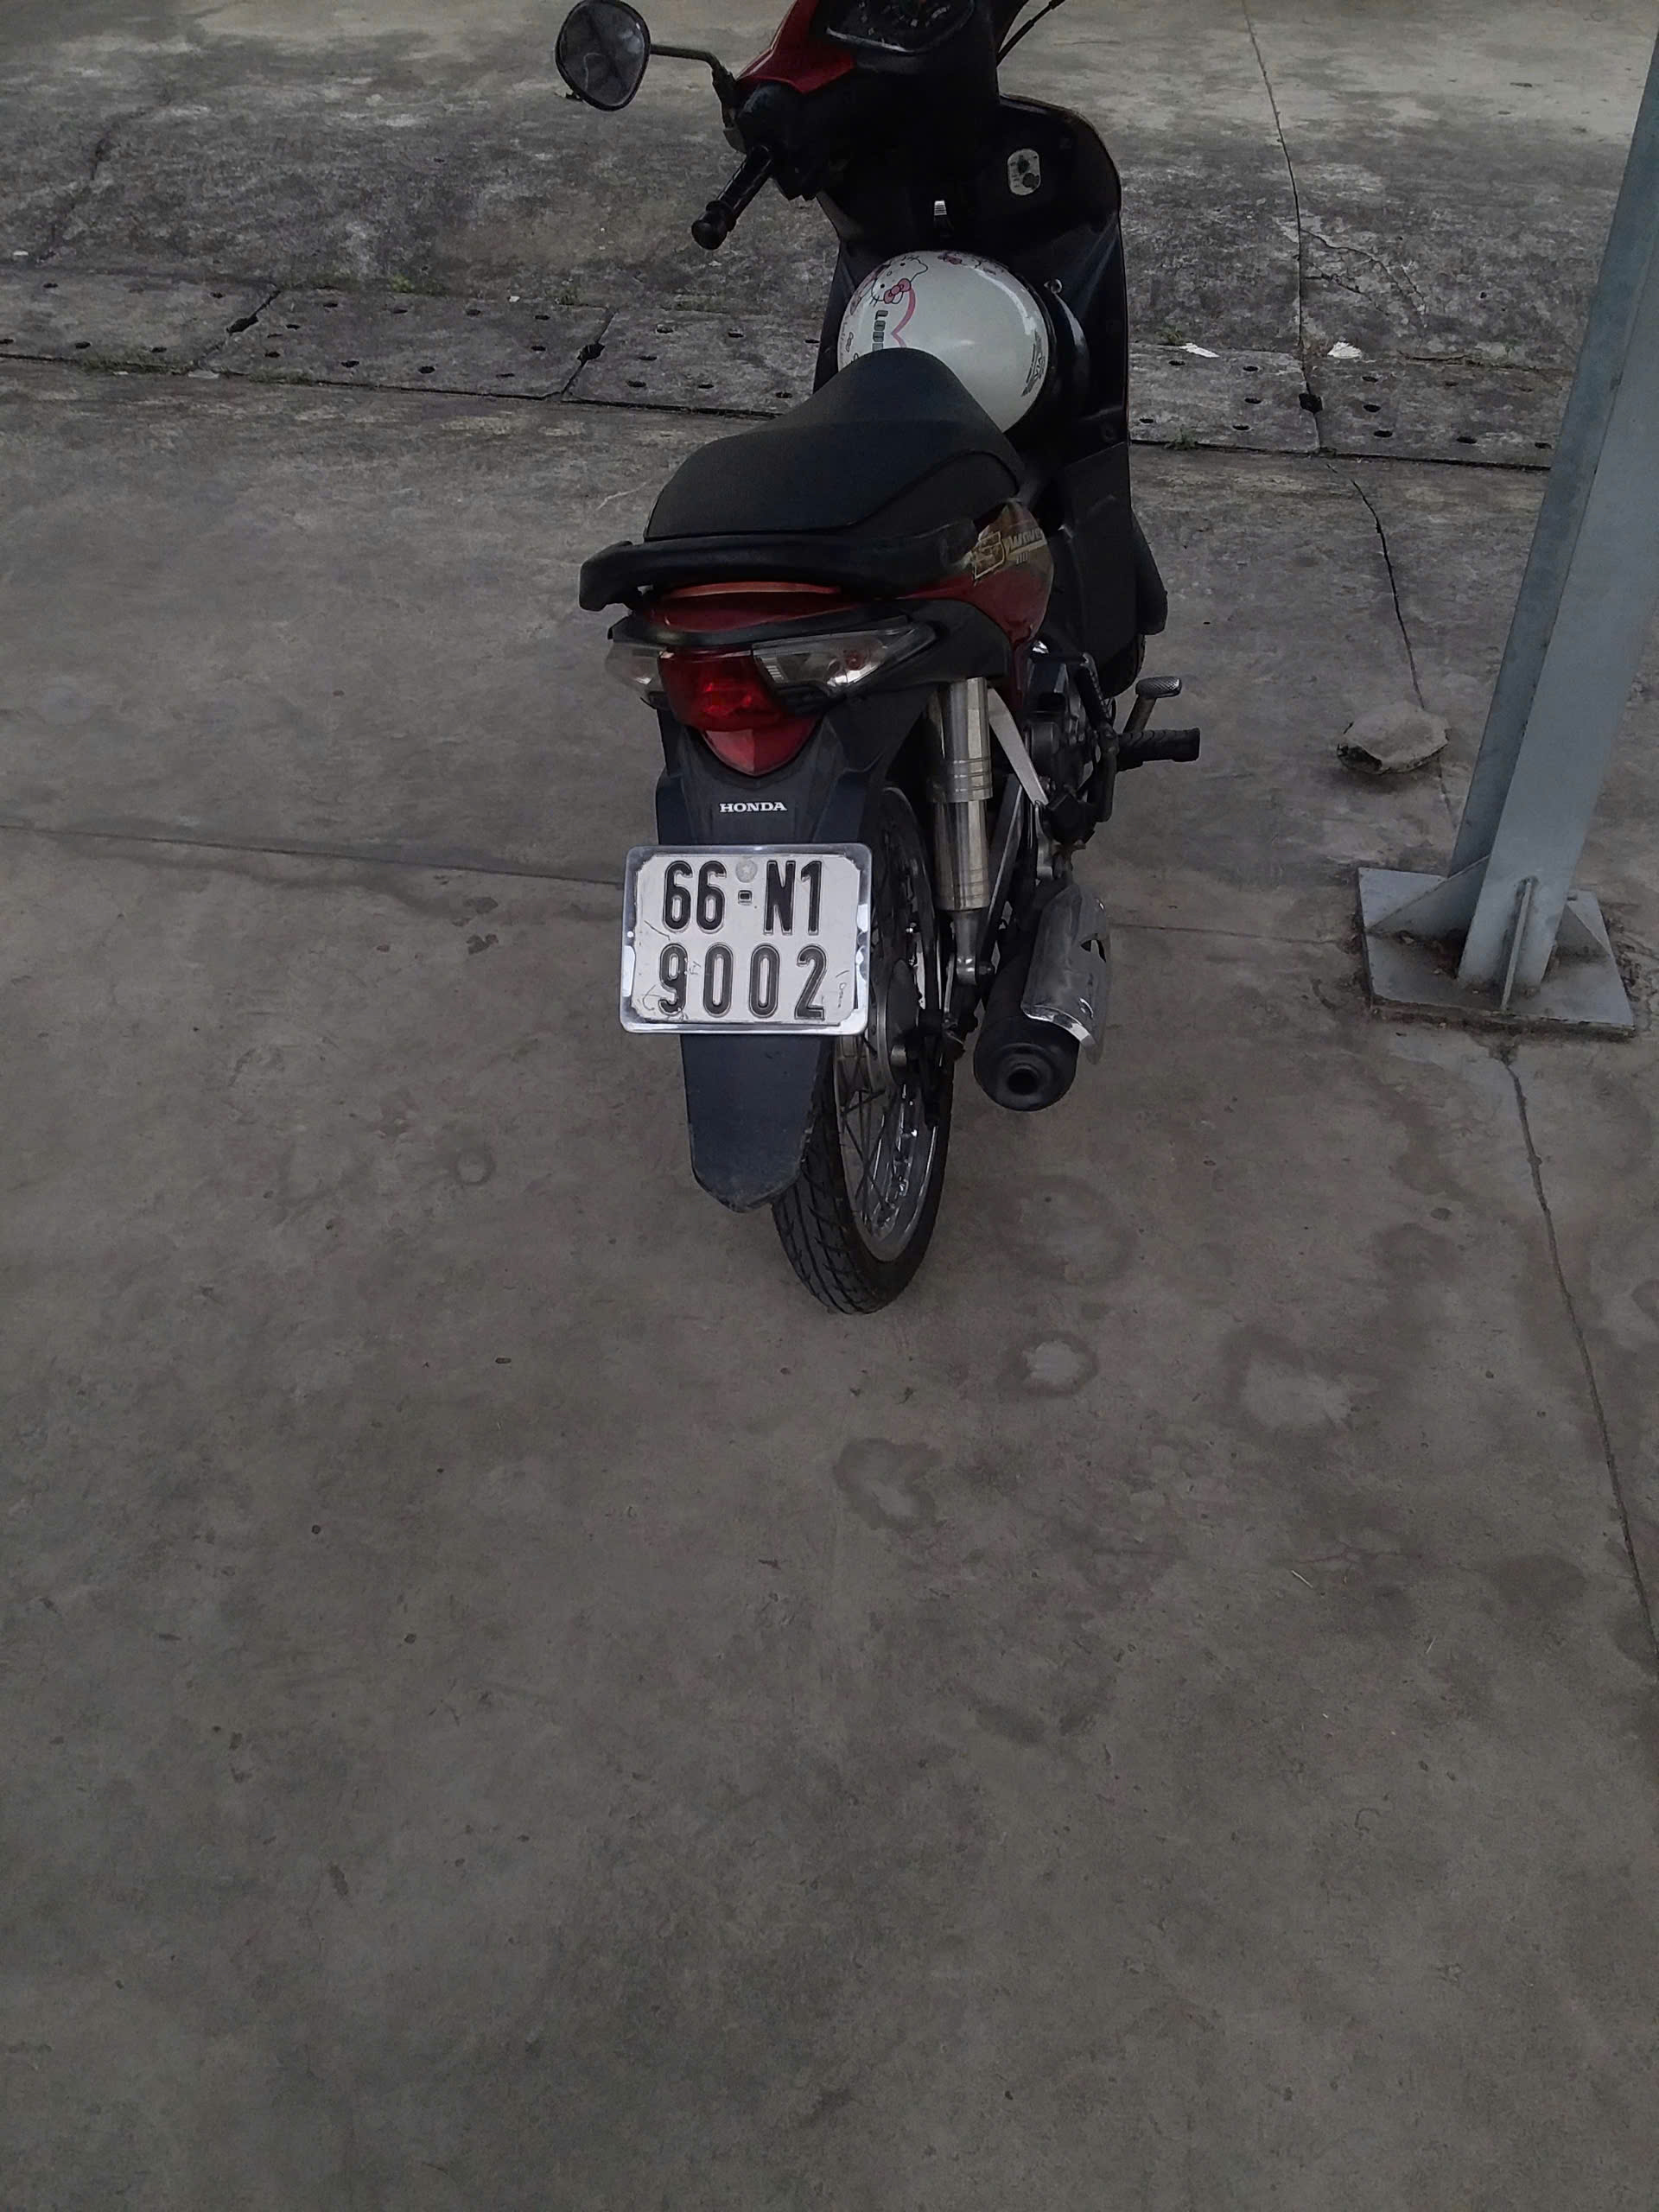bien_so: (632, 846, 868, 1026)
